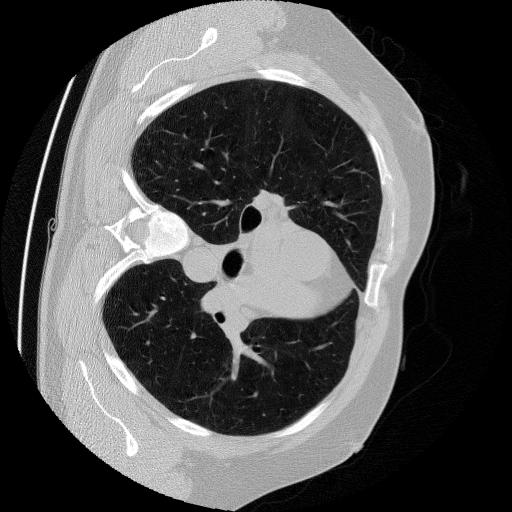nodule: (189, 330, 202, 343)
